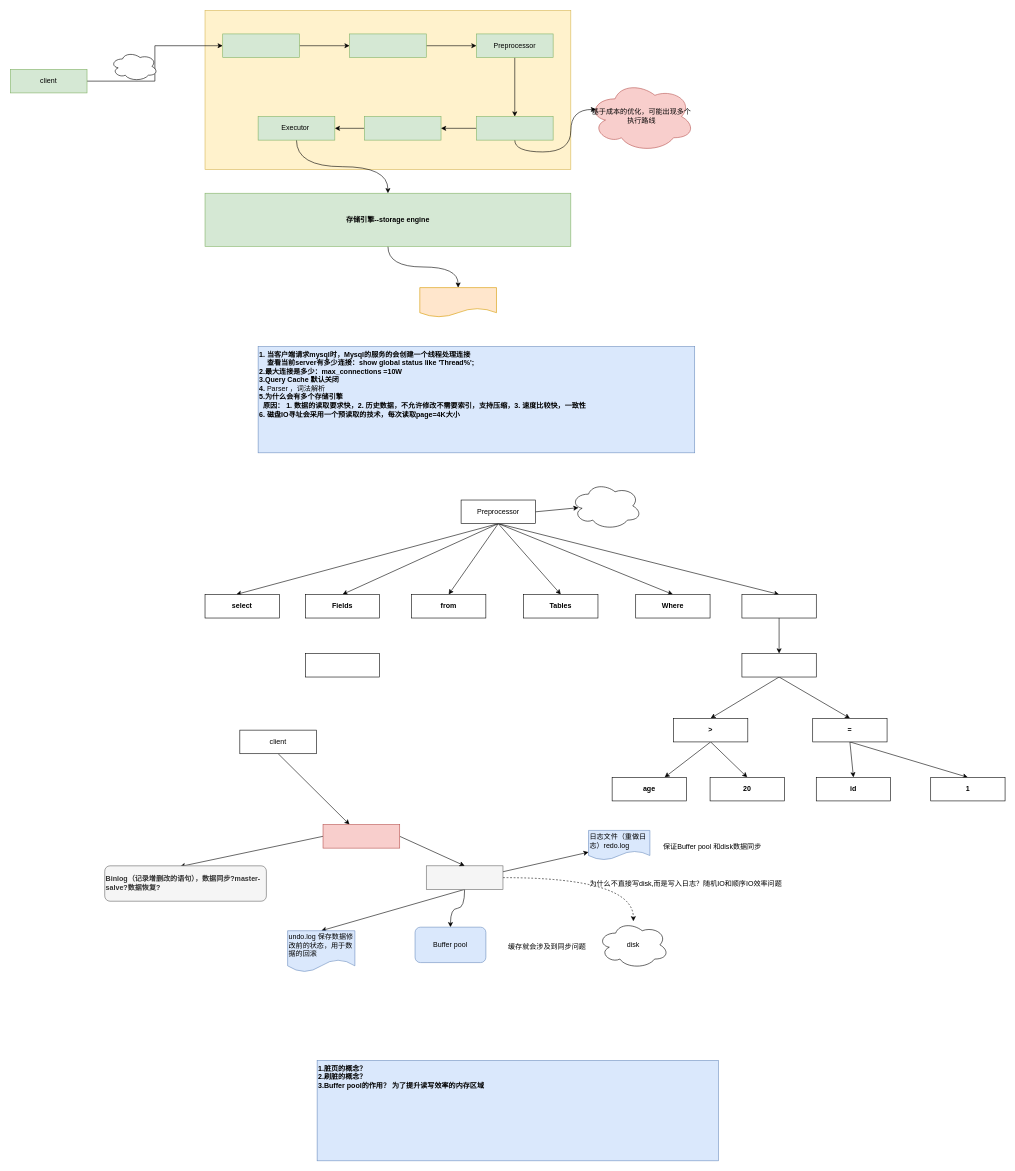
Image size: 1015x1171. Some labels were removed from this diagram. Here are the shapes that lost their labels. From the top down, the centre of each, then its label:
At (x=260, y=45): "Query Cache".
At (x=387, y=45): "Parser".
At (x=134, y=66): "sql".
At (x=402, y=128): "Executor plant".
At (x=514, y=128): "Optimizer".
At (x=457, y=302): "磁盘".
At (x=606, y=506): "解析树".
At (x=778, y=606): "Contitions".
At (x=342, y=665): "Name".
At (x=778, y=665): "And".
At (x=361, y=836): "Server".
At (x=464, y=877): "InnoDb".
